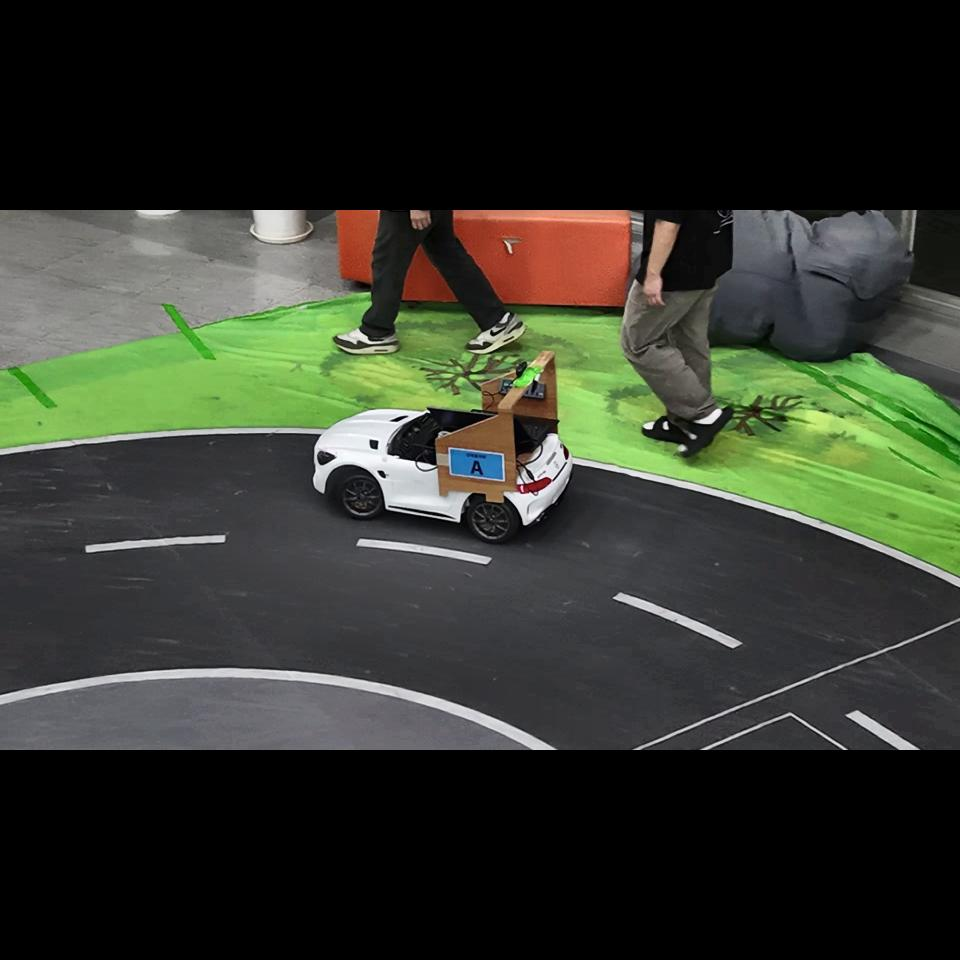broken_line: (613, 592, 743, 649), (356, 539, 493, 565), (845, 710, 920, 750), (86, 535, 225, 553)
